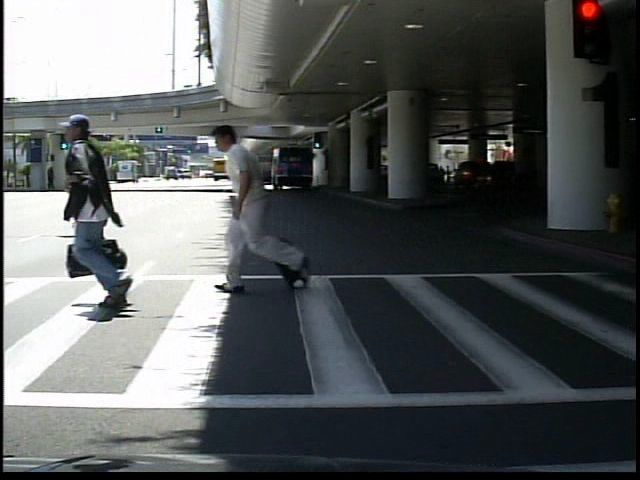person: (61, 111, 149, 314), (221, 117, 295, 295)
